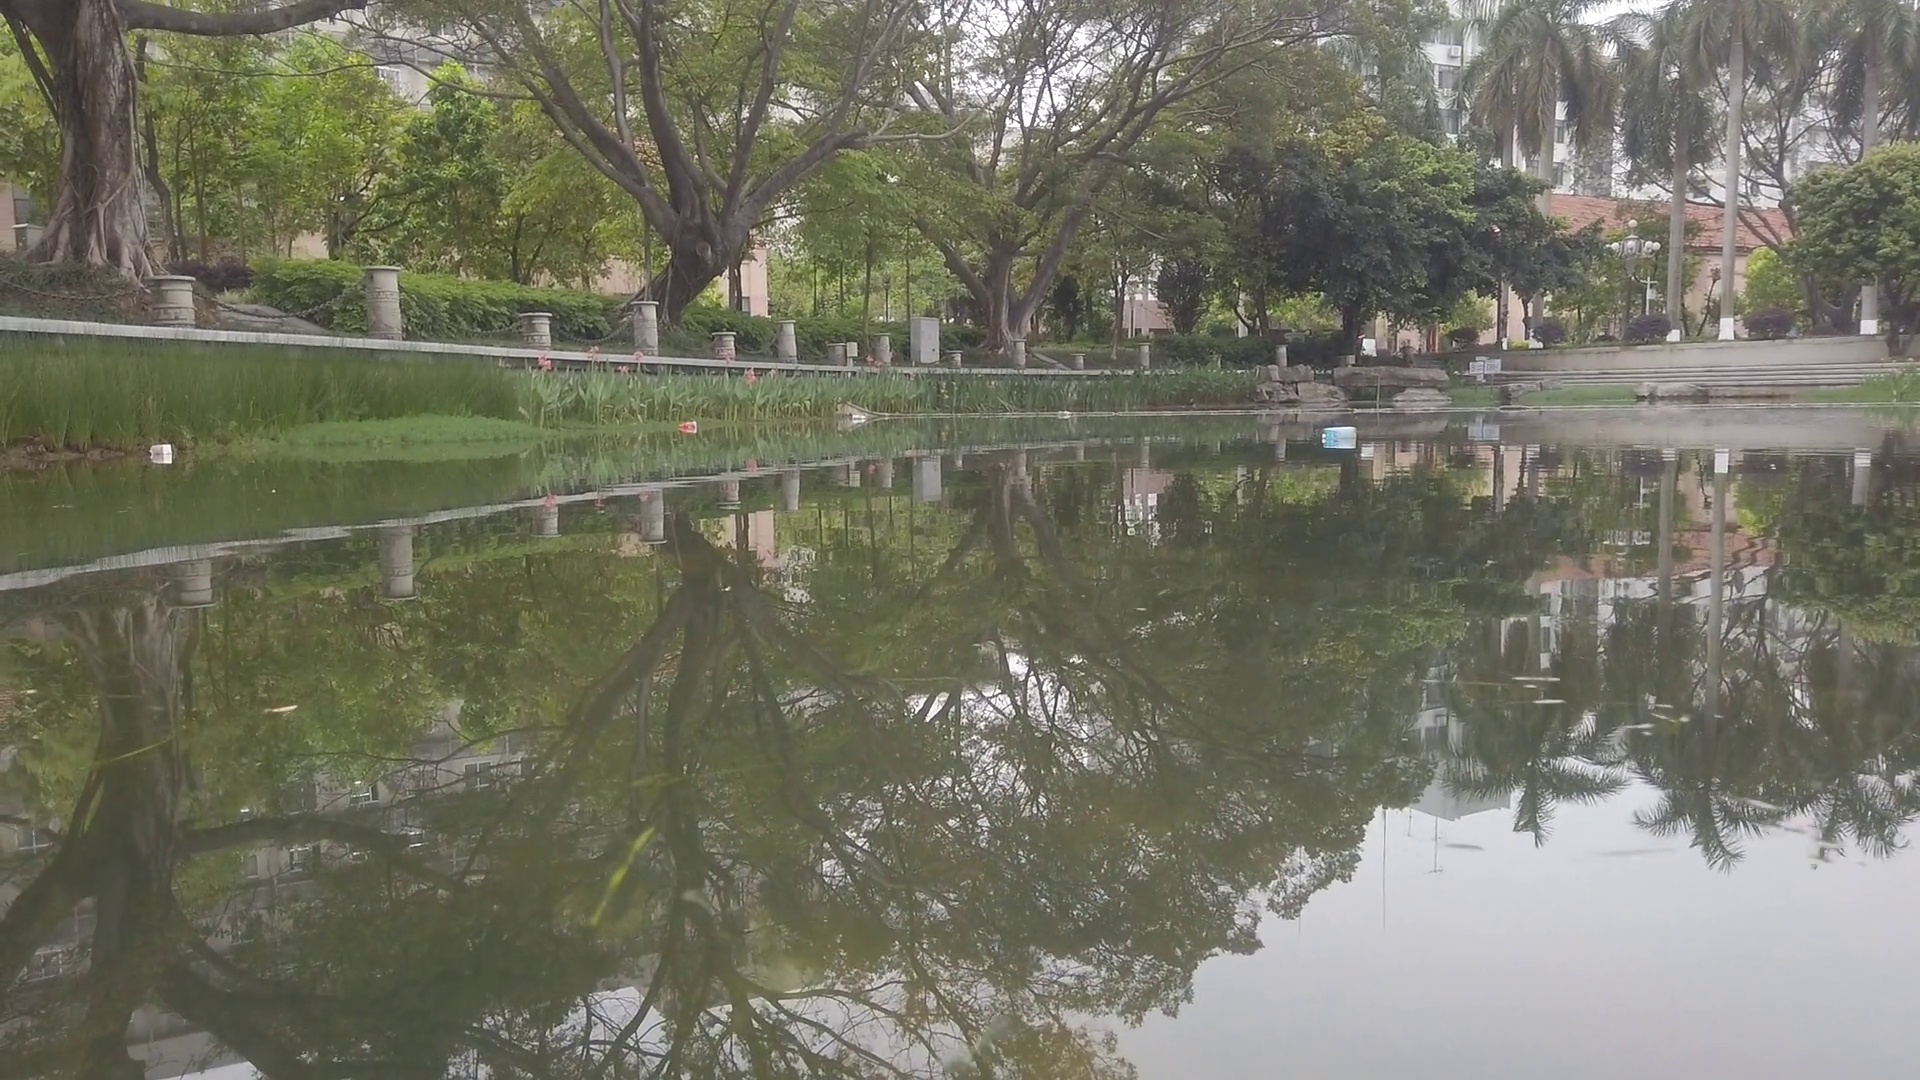bottle: (680, 419, 698, 433), (851, 413, 866, 422), (1058, 411, 1073, 418)
carton: (1323, 427, 1356, 440), (152, 444, 171, 455)
